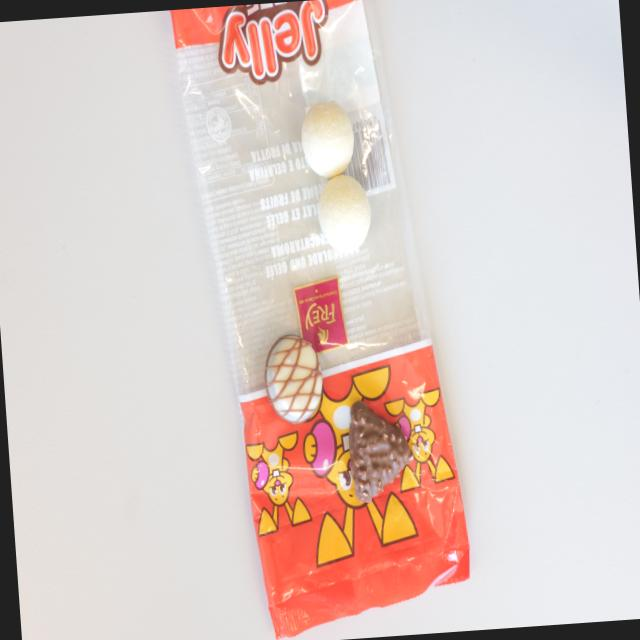Comtesse: (298, 100, 358, 178), (317, 175, 374, 253)
Creme_brulee: (262, 331, 324, 424)
Triangolo: (342, 397, 416, 506)
